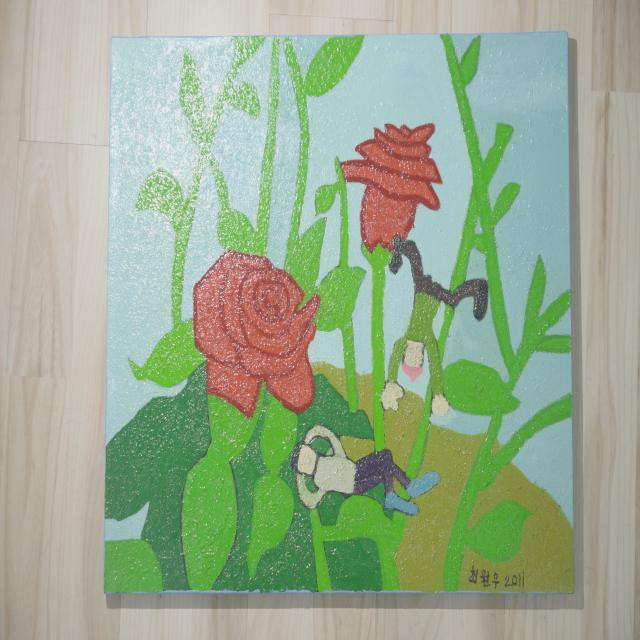painting: (105, 33, 573, 592)
